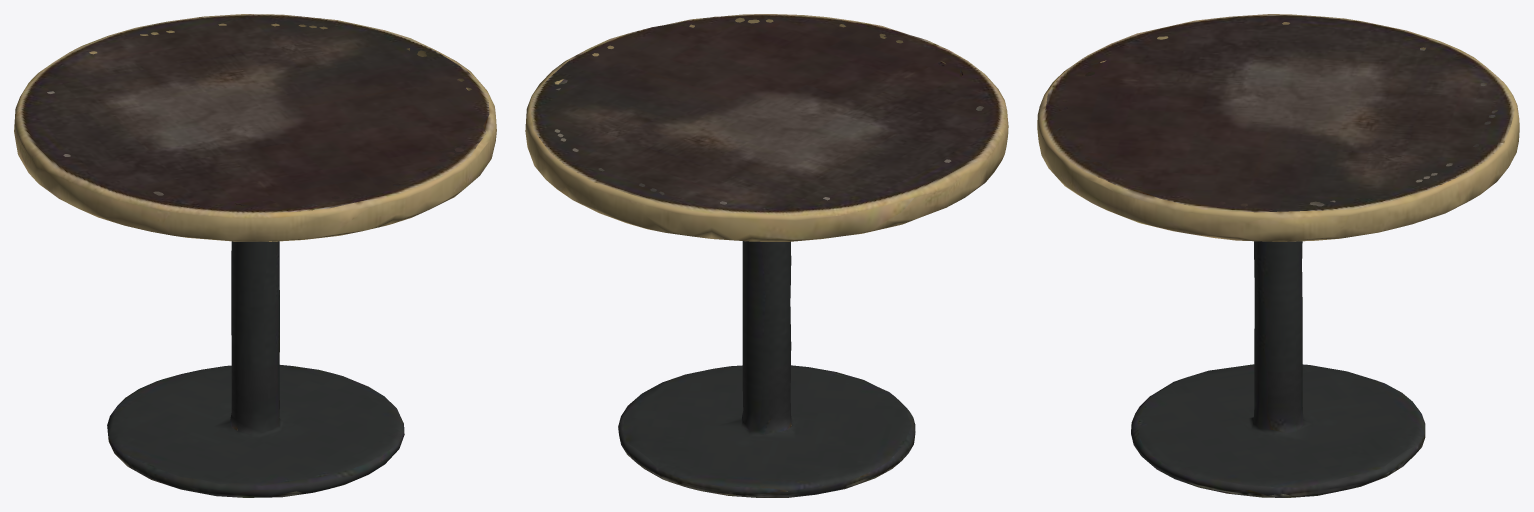
The model's file is bar_table.glb.
The picture shows the model from 3 angles, left to right: view 1: azimuth 30°, elevation 25°; view 2: azimuth 150°, elevation 25°; view 3: azimuth 270°, elevation 25°; orthographic projection.
Bounding box in the file's own units: 1.01 × 0.7526 × 1.01.
Materials: 1 (1 with a texture image).
